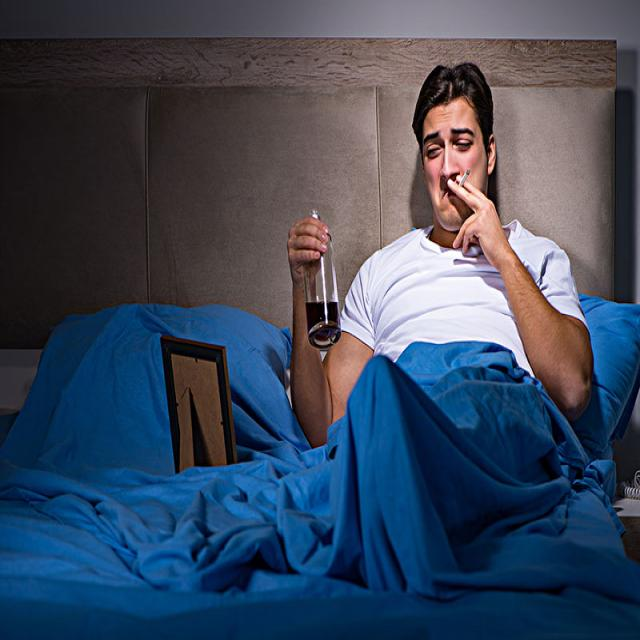smoking: (456, 169, 470, 191)
